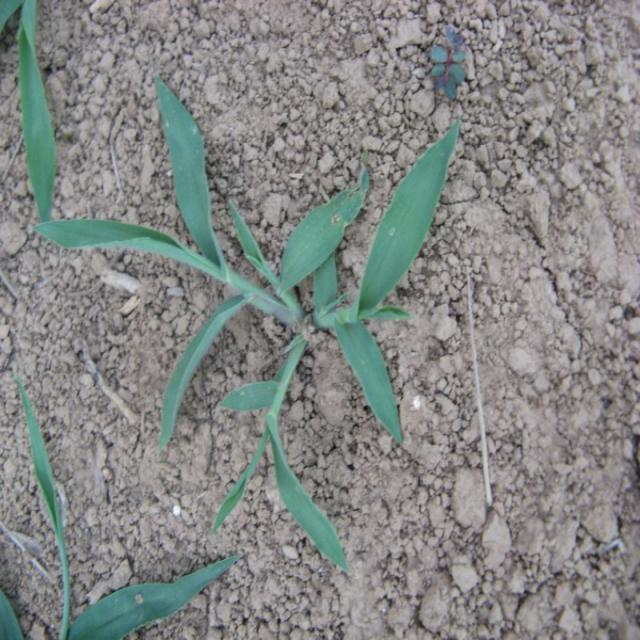bg: (38, 76, 459, 564)
